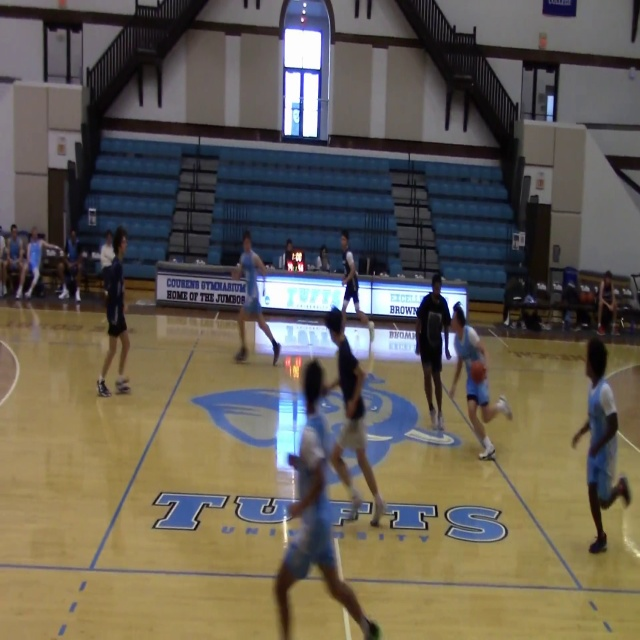Basketball: (426, 311, 442, 346), (470, 361, 486, 382)
